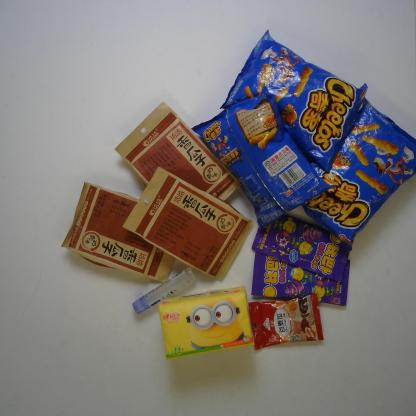Candy: (239, 244, 353, 312), (251, 208, 349, 273)
Dried Food: (114, 97, 244, 217), (122, 165, 257, 276), (62, 182, 185, 282)
Instant Drink: (245, 292, 327, 352)
Puffed Food: (216, 25, 366, 169), (188, 92, 326, 230), (298, 93, 416, 239)
Stationery: (136, 267, 201, 316)
Tissue: (164, 278, 253, 364)
